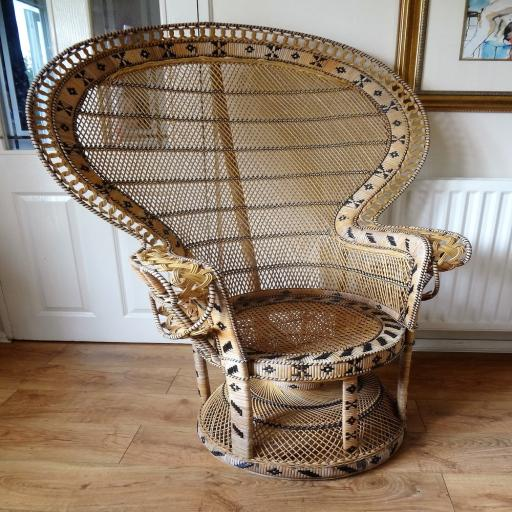Door: (0, 0, 210, 343)
chair: (26, 22, 472, 481)
wall: (196, 0, 512, 351)
